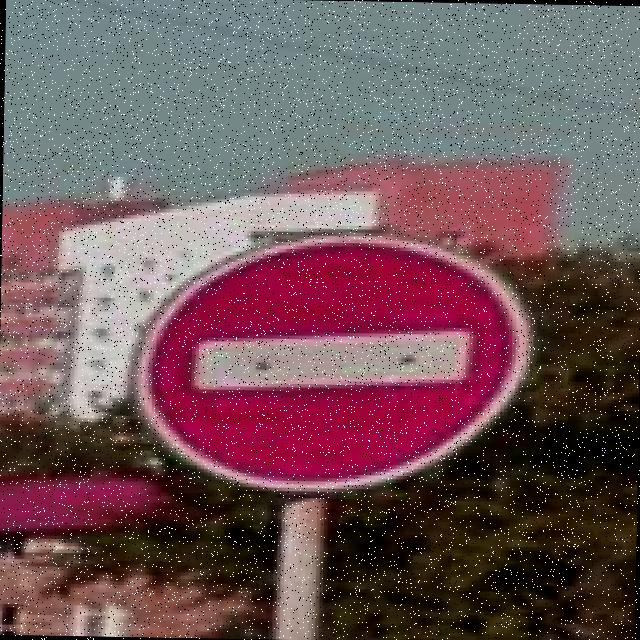Zakaz wjazdu: (128, 228, 538, 498)
